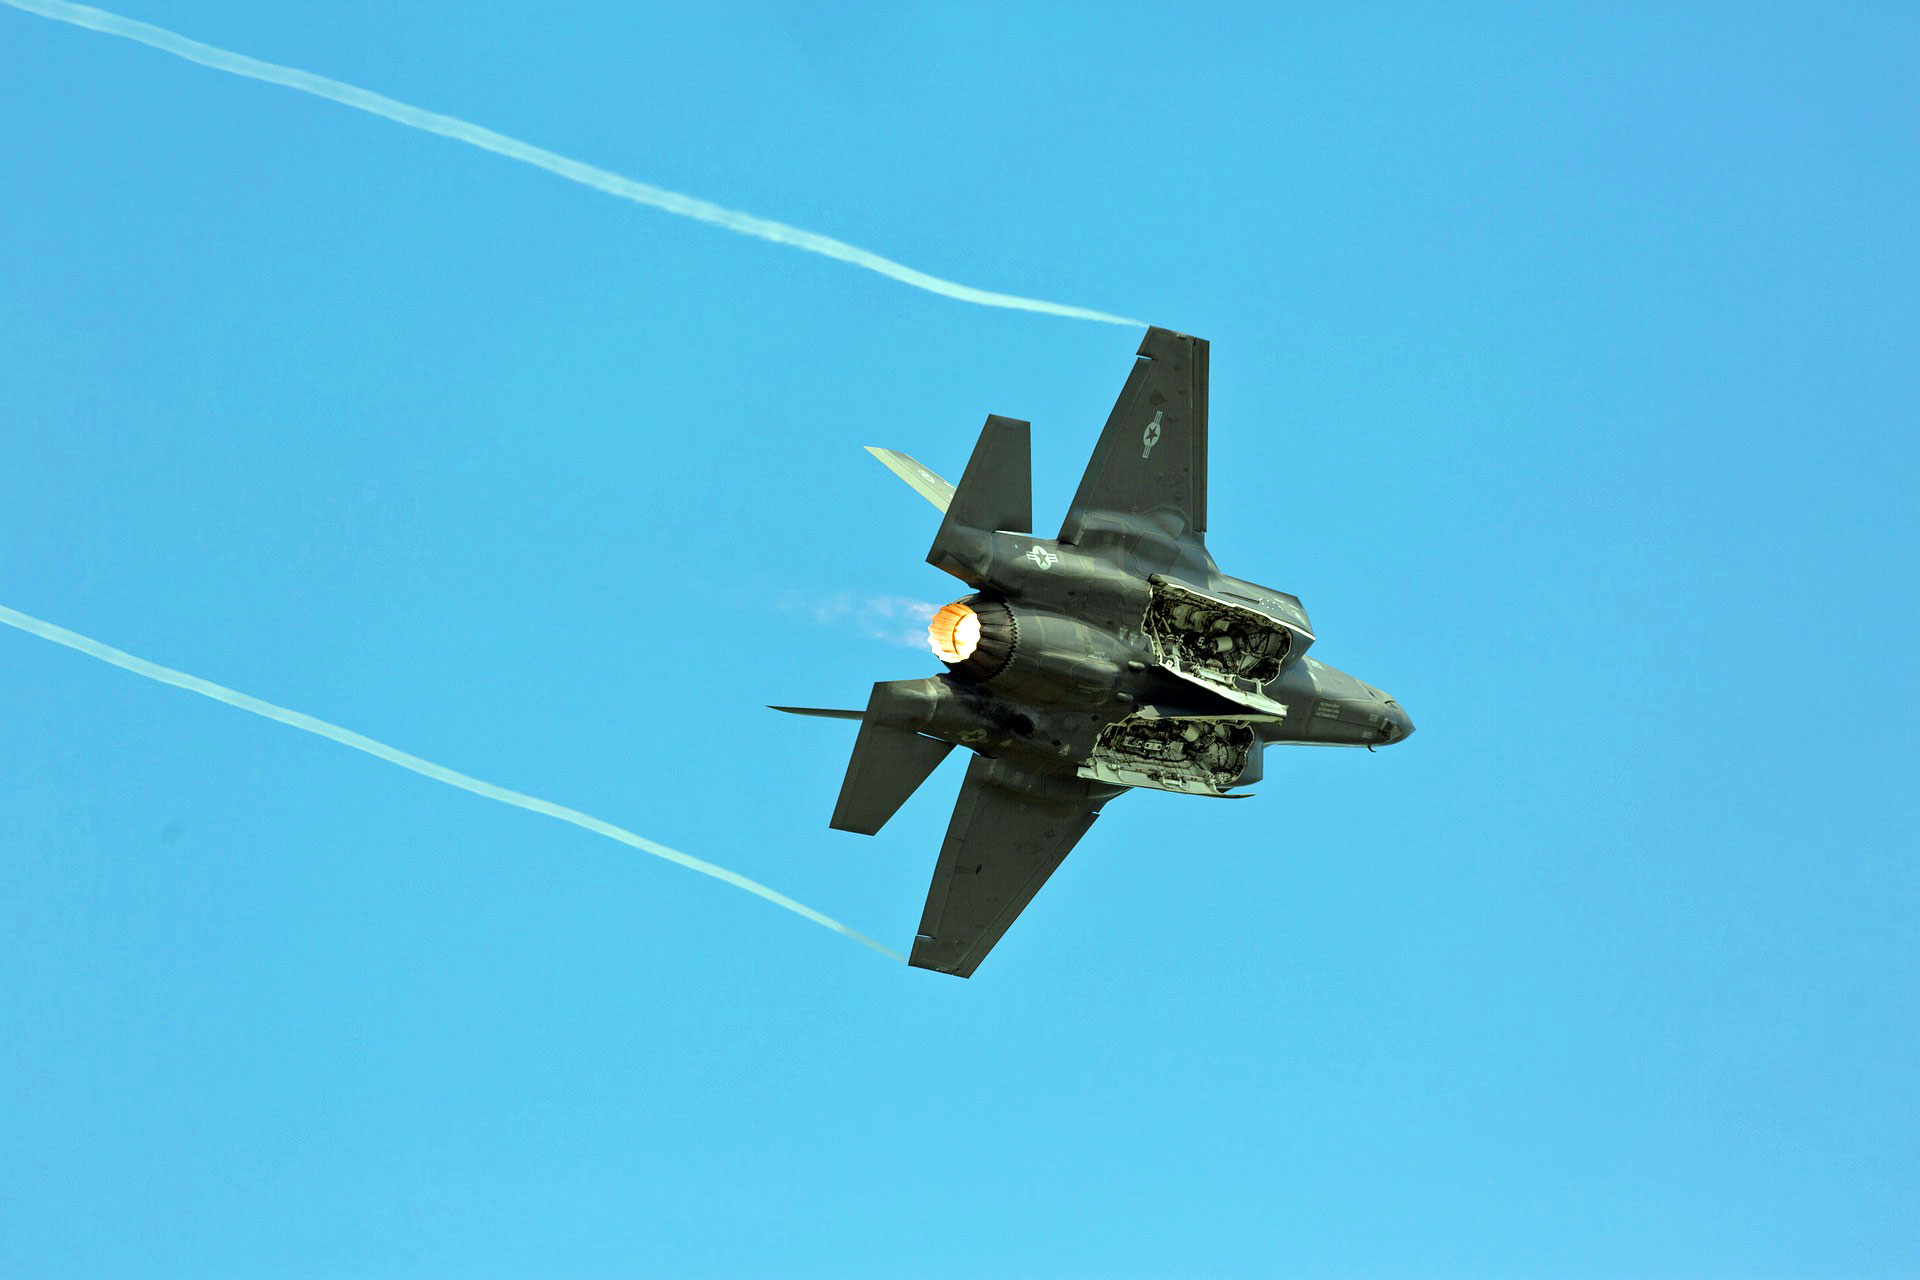F-35 Lightning: (739, 274, 1459, 999)
